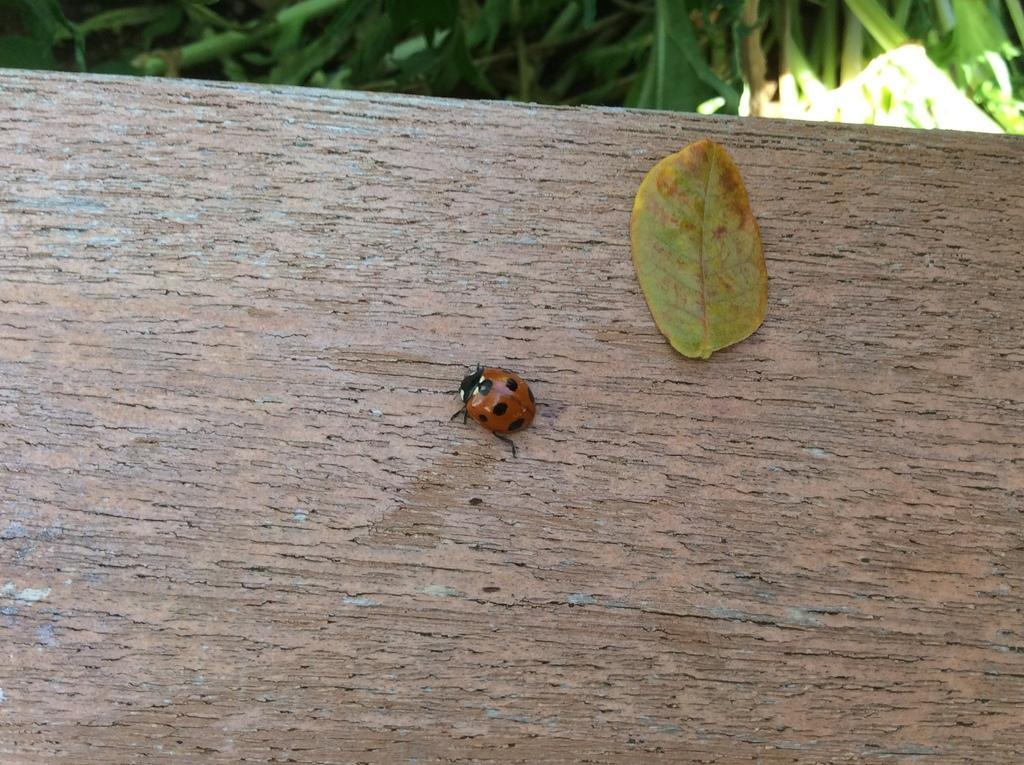ladybug: (447, 359, 543, 463)
